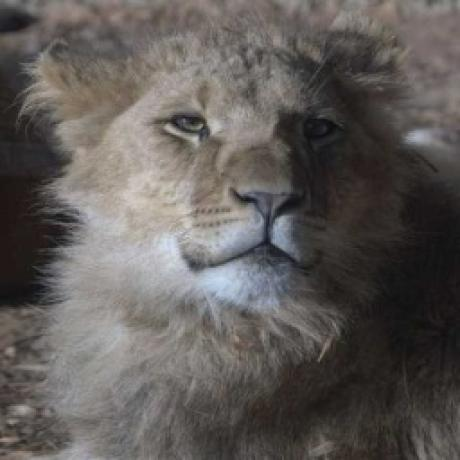Lion: (21, 21, 460, 460)
